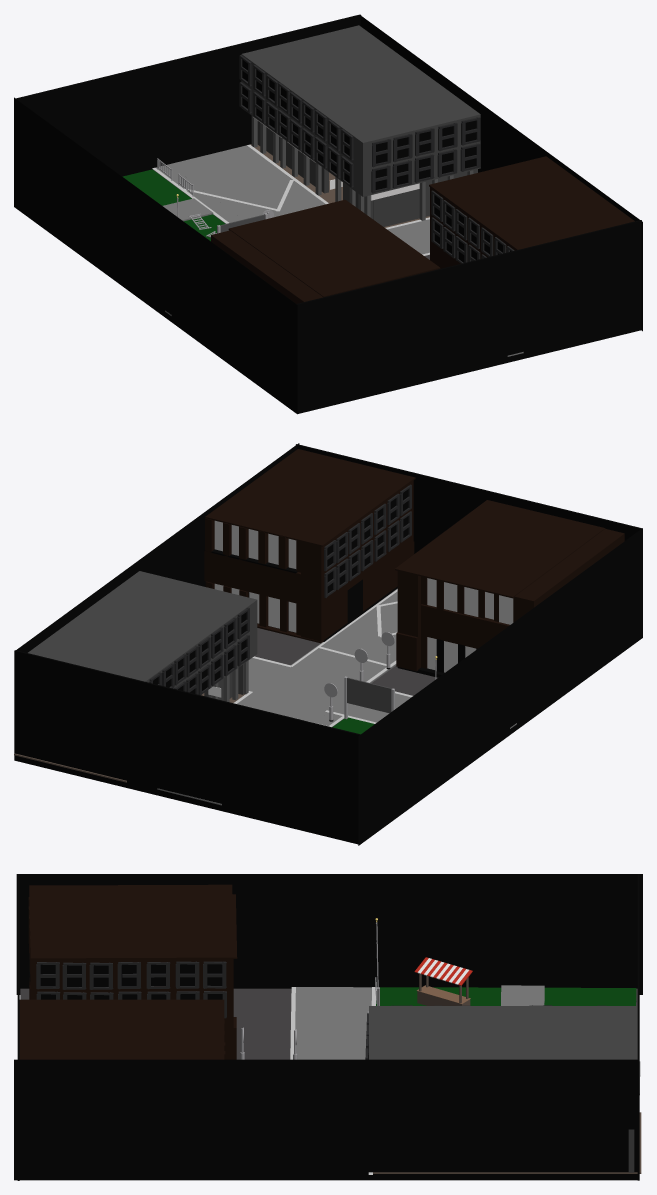
The model's file is ulica.gltf.
The picture shows the model from 3 angles, top to bottom: view 1: azimuth 30°, elevation 25°; view 2: azimuth 150°, elevation 25°; view 3: azimuth 270°, elevation 25°; orthographic projection. The views are drawn at different scales.
Parts seen in each view (by area): view 1: Part (×17); view 2: Part (×19), чупа пидорас; view 3: Part (×15), чупа пидорас.
Boxes of the visible parts, left/top/right/bottom form: Part (×17): left=14, top=14, right=642, bottom=414; Part (×19): left=14, top=443, right=642, bottom=845; чупа пидорас: left=254, top=628, right=437, bottom=726; Part (×15): left=14, top=874, right=642, bottom=1180; чупа пидорас: left=20, top=988, right=637, bottom=1059.
Bounding box in the file's own units: 106 × 31.84 × 150.
